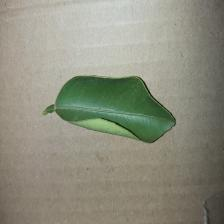healthy: (49, 68, 180, 144)
